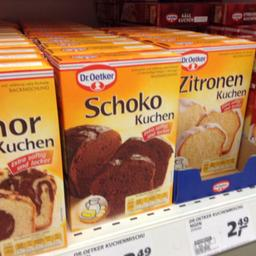cake: (52, 50, 178, 226), (0, 64, 62, 255), (169, 41, 255, 177)
